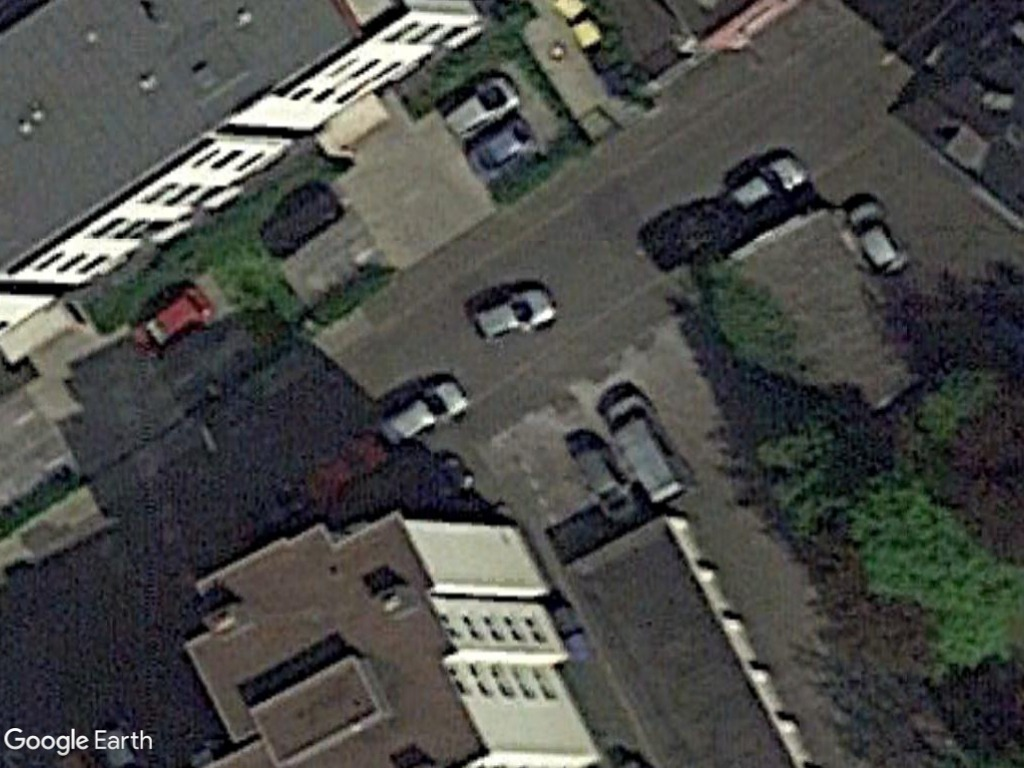car: (364, 365, 477, 455), (431, 64, 532, 144), (124, 275, 217, 359), (461, 274, 563, 349), (838, 187, 913, 287), (461, 115, 541, 192)
van: (605, 385, 690, 514)
